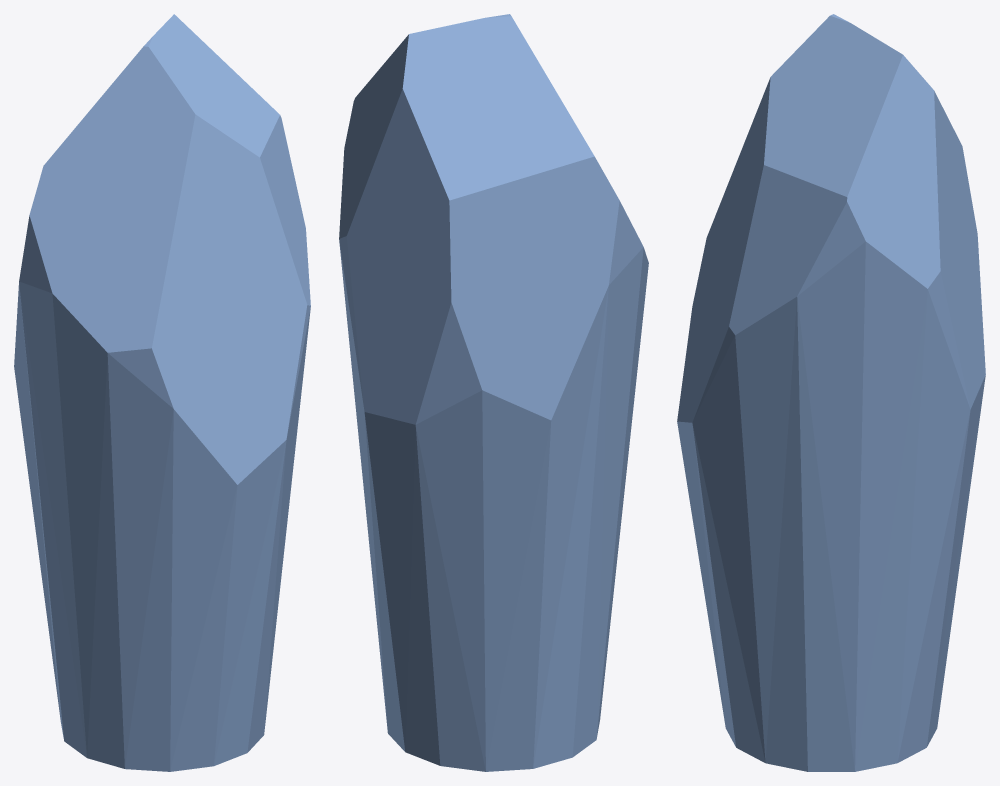
Rendered from crystal_11.fbx.
3 views of the same model, side by side, from view 1: azimuth 30°, elevation 25°; view 2: azimuth 150°, elevation 25°; view 3: azimuth 270°, elevation 25° (orthographic). The views are drawn at different scales.
Visible parts, largest first — view 1: crystal_11; view 2: crystal_11; view 3: crystal_11.
Part boxes in pixels (x1=…): crystal_11: x1=14, y1=14, x2=310, y2=771; crystal_11: x1=339, y1=14, x2=648, y2=771; crystal_11: x1=677, y1=14, x2=985, y2=771.
Bounding box in the file's own units: 40.21 × 104 × 41.24.
